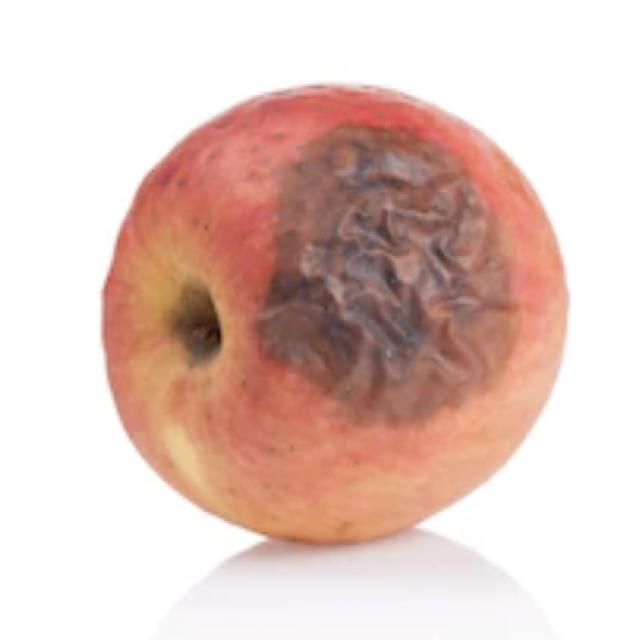Rotten: (109, 96, 578, 536)
